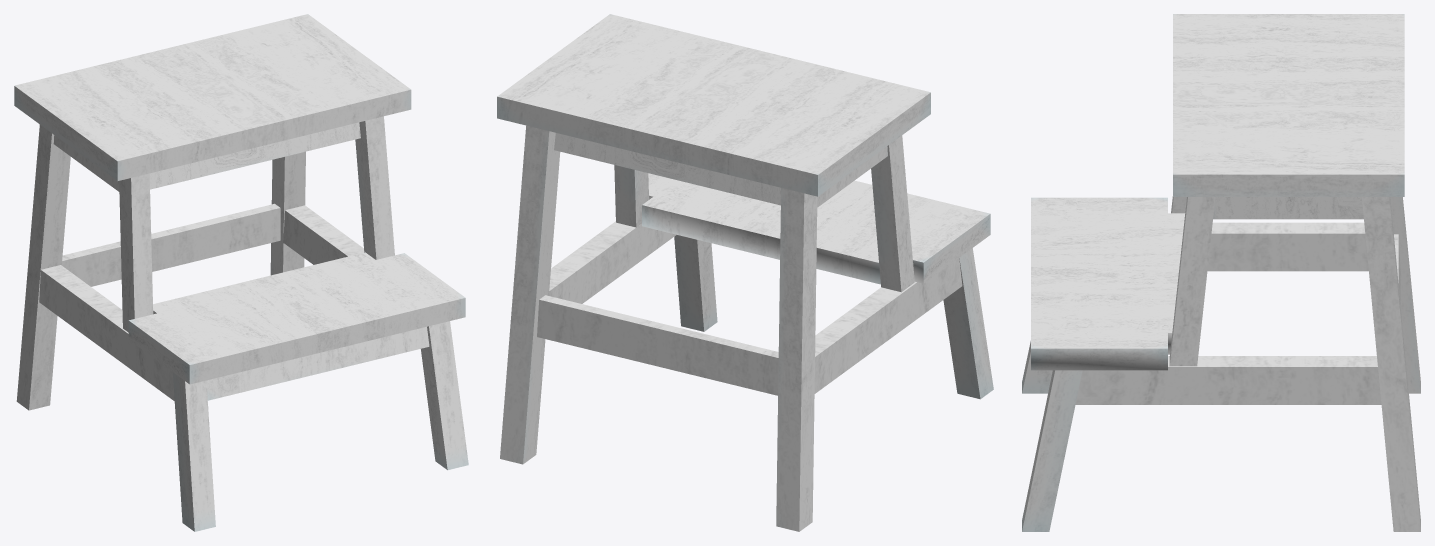
Rendered from 스텝스툴.obj.
The picture shows the model from 3 angles, left to right: view 1: azimuth 30°, elevation 25°; view 2: azimuth 150°, elevation 25°; view 3: azimuth 270°, elevation 25°; orthographic projection. The views are drawn at different scales.
Parts seen in each view (by area): view 1: Plane.020, Plane.021, Plane.022, Plane.025, Plane.029, Plane.027, Plane.024, Plane.026, Plane.023, Plane.028; view 2: Plane.020, Plane.022, Plane.021, Plane.027, Plane.024, Plane.025, Plane.029, Plane.023, Plane.028; view 3: Plane.020, Plane.021, Plane.027, Plane.022, Plane.025, Plane.029, Plane.028.
Part boxes in pixels (x1,y1,x2,y2): Plane.020: (14, 14, 411, 181); Plane.021: (128, 252, 465, 384); Plane.022: (16, 124, 305, 410); Plane.025: (172, 321, 468, 531); Plane.029: (119, 116, 394, 332); Plane.027: (39, 205, 364, 400); Plane.024: (61, 203, 280, 286); Plane.026: (206, 326, 429, 400); Plane.023: (149, 122, 360, 189); Plane.028: (53, 135, 119, 191); Plane.020: (497, 14, 930, 196); Plane.022: (500, 125, 817, 531); Plane.021: (642, 173, 990, 284); Plane.027: (549, 221, 962, 393); Plane.024: (537, 295, 778, 395); Plane.025: (674, 235, 993, 399); Plane.029: (614, 135, 914, 292); Plane.023: (554, 133, 780, 205); Plane.028: (817, 146, 887, 207); Plane.020: (1173, 14, 1404, 196); Plane.021: (1031, 197, 1185, 370); Plane.027: (1075, 222, 1381, 404); Plane.022: (1362, 197, 1420, 531); Plane.025: (1022, 341, 1082, 531); Plane.029: (1169, 196, 1215, 366); Plane.028: (1213, 197, 1363, 219).
Size of the model in its own units: 0.0505 by 0.0532 by 0.053.
